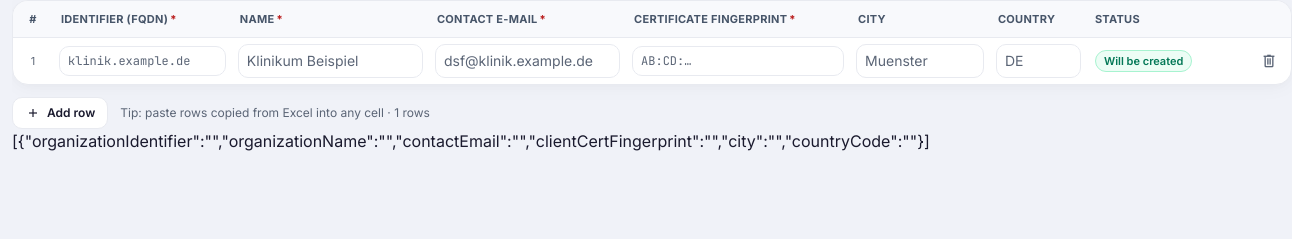
Test: OnboardingEditor › adds a row and focuses its first cell, and removes a row
This screenshot has width=1292, height=239.
Click the button with test id "onboarding-add-row": (60, 113) [12,97,108,129]
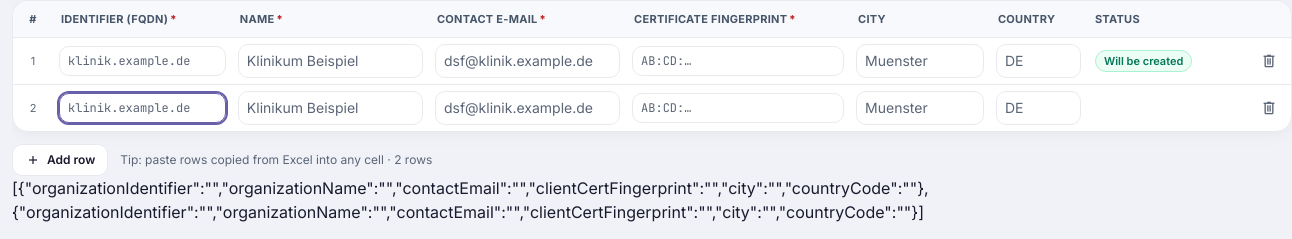
Expected: the number of rows with test id "onboarding-row" is 2, [13,38,1291,84]; [13,84,1291,131]
Click the button named "Remove row 1": (1269, 61) [1253,45,1285,77]
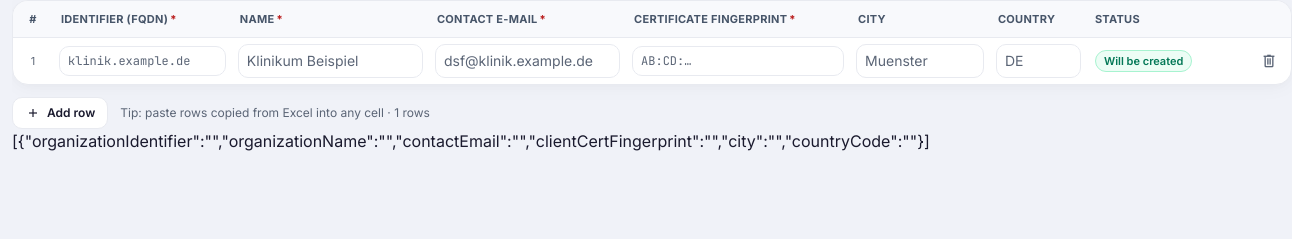
Expected: the number of rows with test id "onboarding-row" is 1, [13,38,1291,84]
